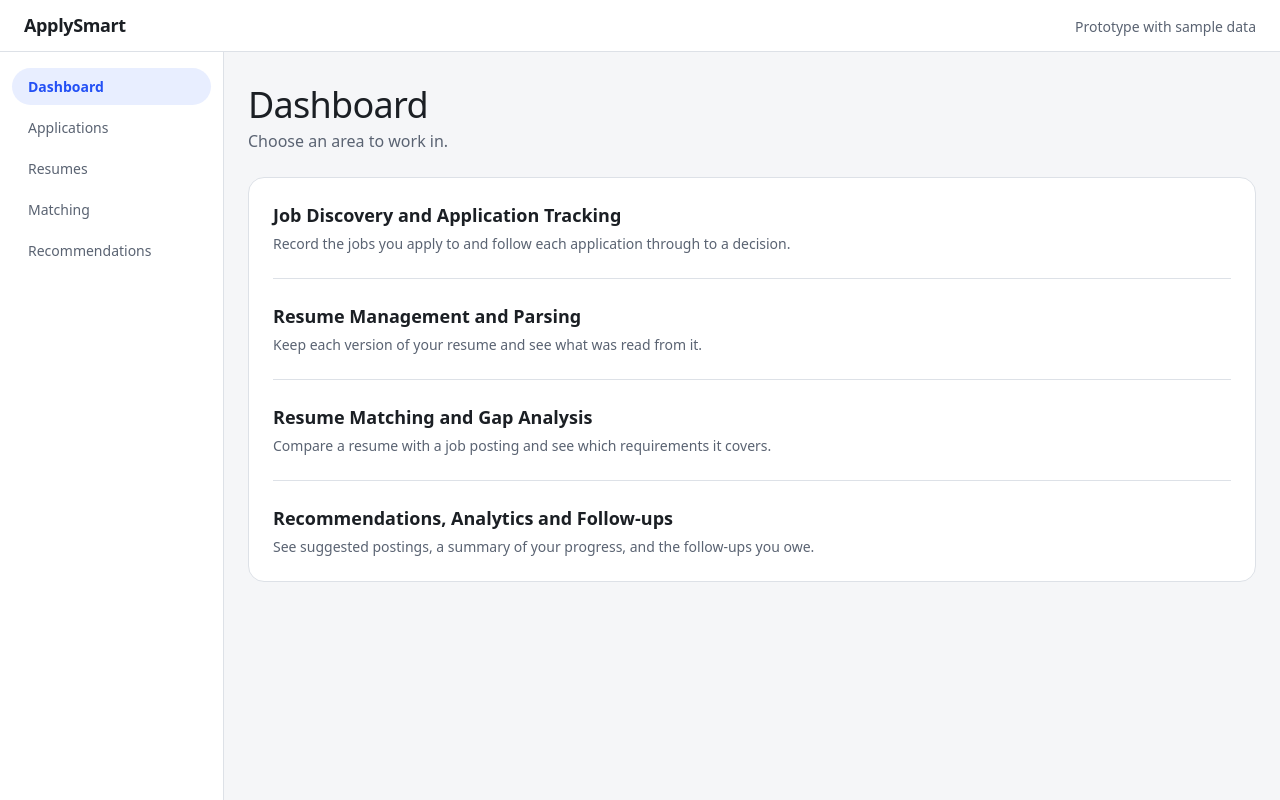
Test: the "Applications" link opens its page, marks it current and moves focus to it
Click the link "Applications".
click(68, 128)  # box [28,118,108,137]
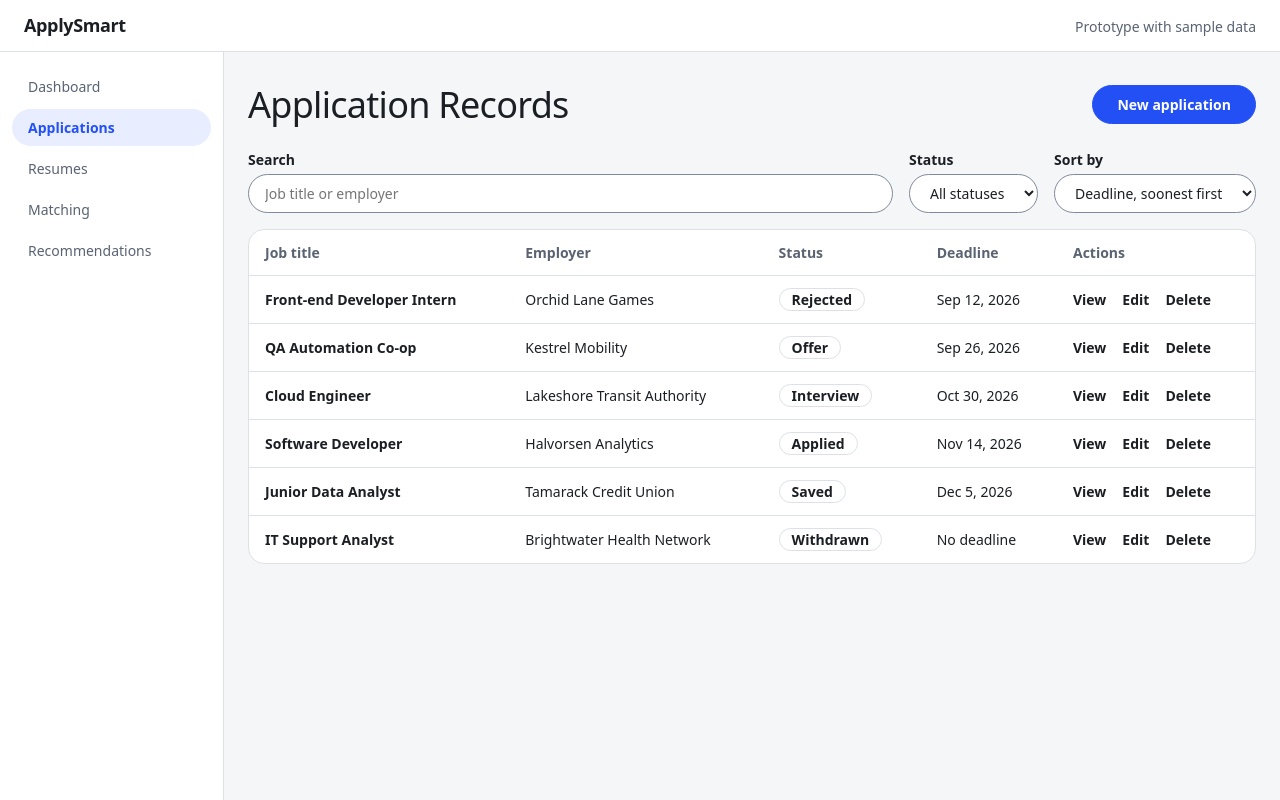
Expected: the heading "Application Records" is shown, [248,84,569,125]
